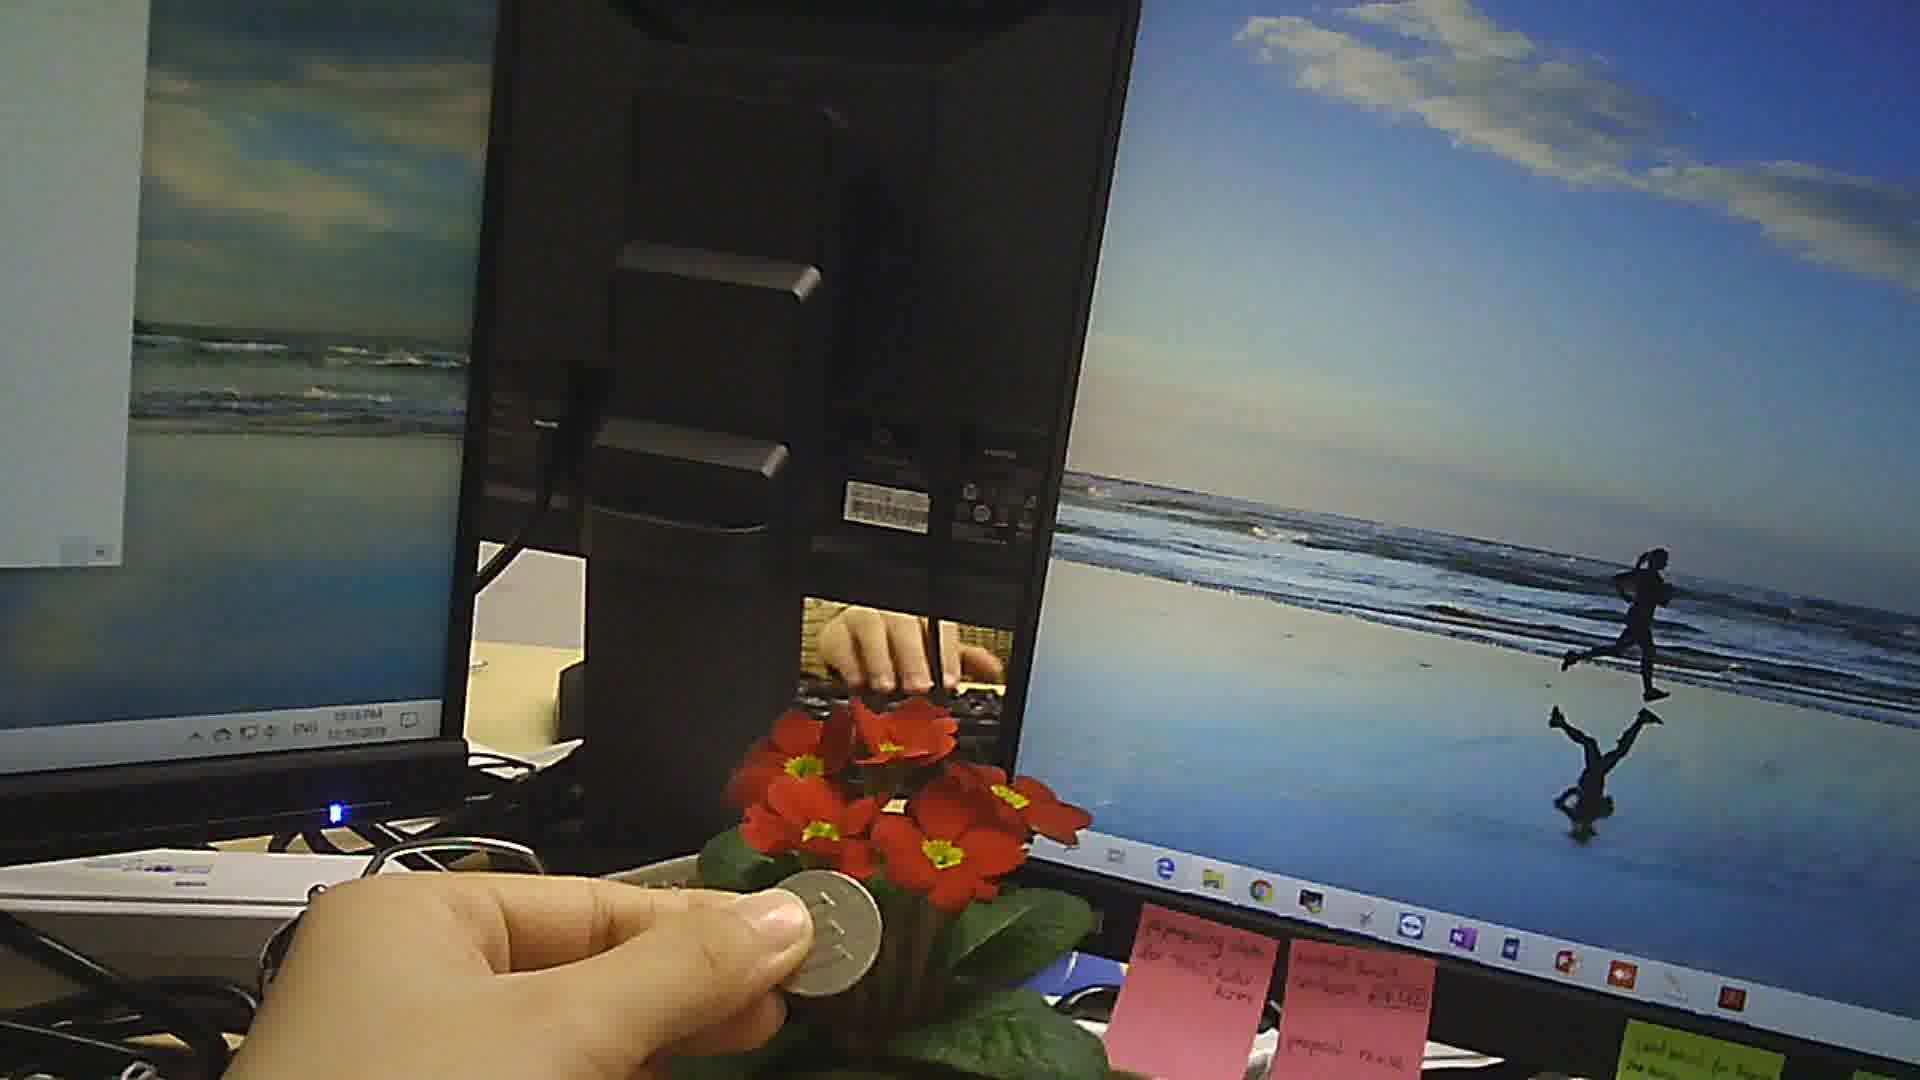100 Yen: (757, 862, 886, 1000)
